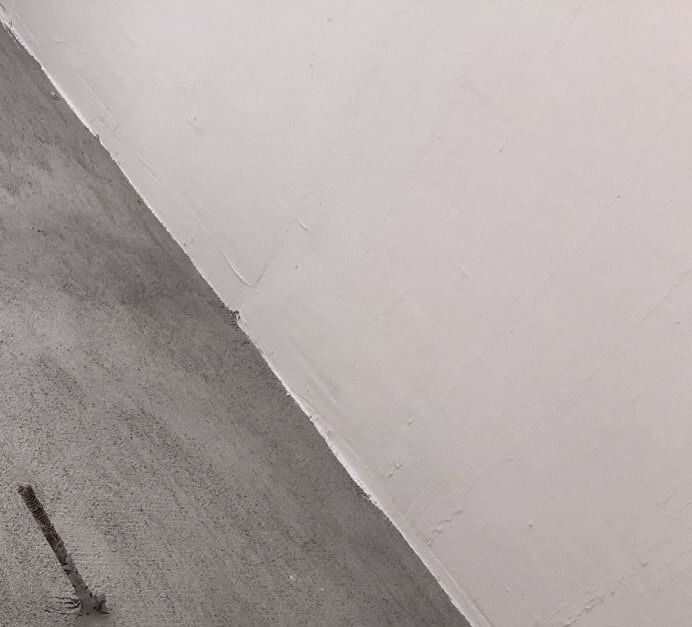Exposed reinforcement: (16, 484, 99, 615)
